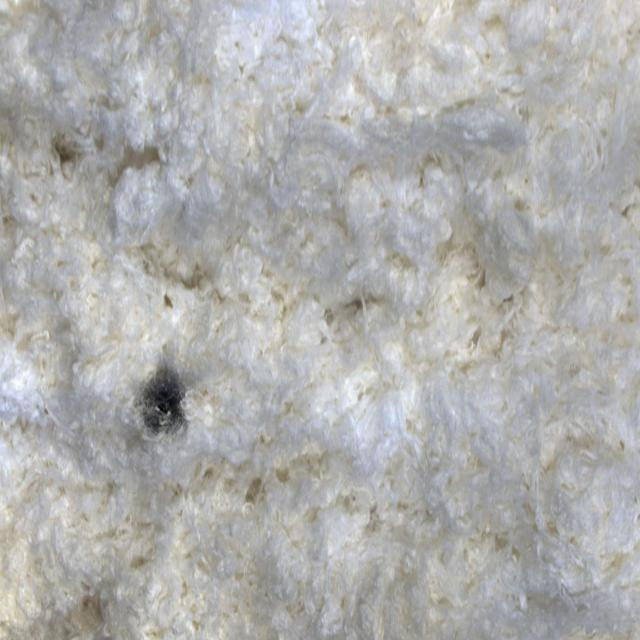dust: (115, 318, 223, 490)
